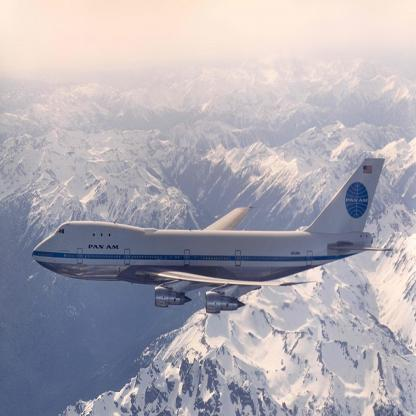CIV_Plane: (32, 147, 392, 317)
